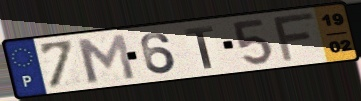5: (229, 16, 277, 66)
6: (138, 31, 178, 75)
7: (38, 38, 76, 90)
F: (271, 11, 318, 65)
M: (73, 32, 138, 85)
T: (182, 25, 216, 71)
